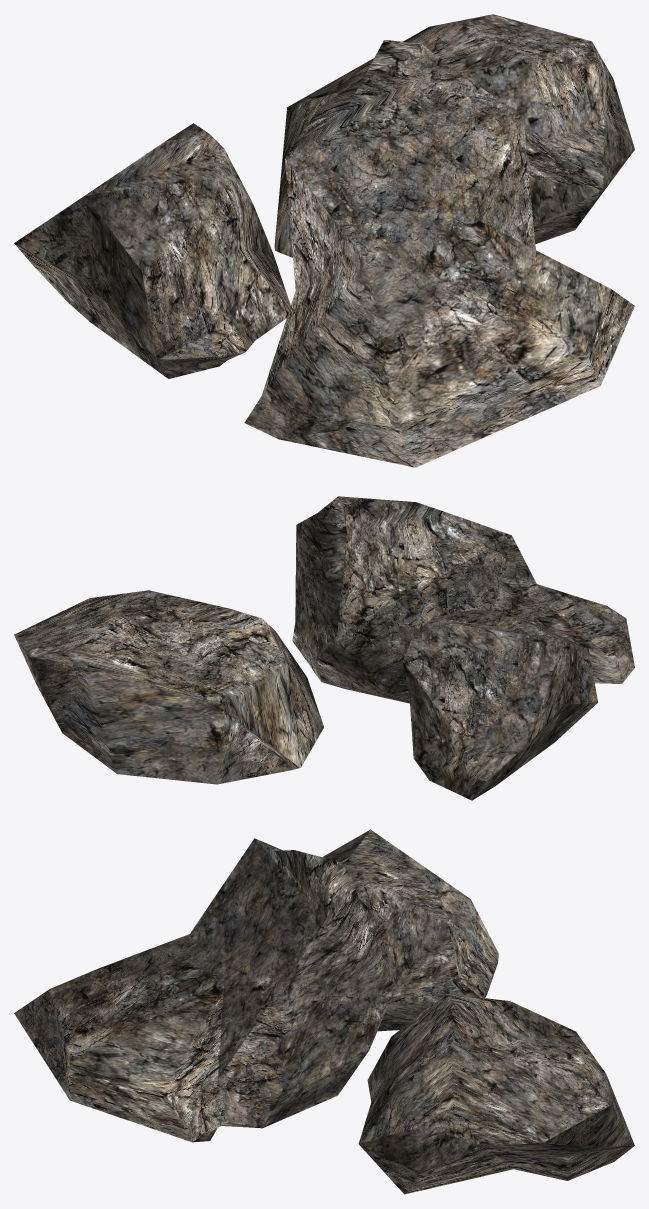
File: pir_m_prp_cav_rockGroup_g.fbx
The picture shows the model from 3 angles, top to bottom: view 1: azimuth 30°, elevation 25°; view 2: azimuth 150°, elevation 25°; view 3: azimuth 270°, elevation 25°; orthographic projection. The views are drawn at different scales.
Visible parts, largest first — view 1: rock_03, rock_01, rock_02; view 2: rock_02, rock_03, rock_01; view 3: rock_03, rock_02, rock_01.
Boxes of the visible parts, x1=… form: rock_03: x1=244, y1=40, x2=634, y2=467; rock_01: x1=14, y1=123, x2=290, y2=378; rock_02: x1=274, y1=14, x2=634, y2=257; rock_02: x1=14, y1=590, x2=323, y2=784; rock_03: x1=292, y1=496, x2=634, y2=703; rock_01: x1=402, y1=609, x2=597, y2=800; rock_03: x1=14, y1=838, x2=395, y2=1142; rock_02: x1=358, y1=993, x2=634, y2=1194; rock_01: x1=322, y1=829, x2=498, y2=1031.
Size of the model in its own units: 1230 by 519 by 1235.
1 material, 1 textured.
